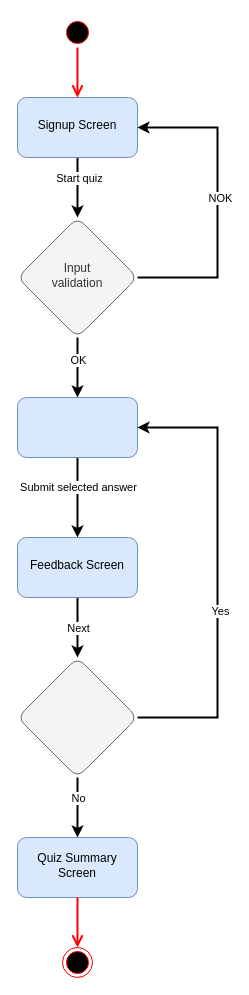
The diagram is 249 pixels wide and 995 high, and some of its shapes have lost their labels. The centre of each missing label's shape, as x and y in pixels:
"Is there any question w/o an answer?" goes at (x=77, y=717).
"Question Screen" goes at (x=77, y=427).
